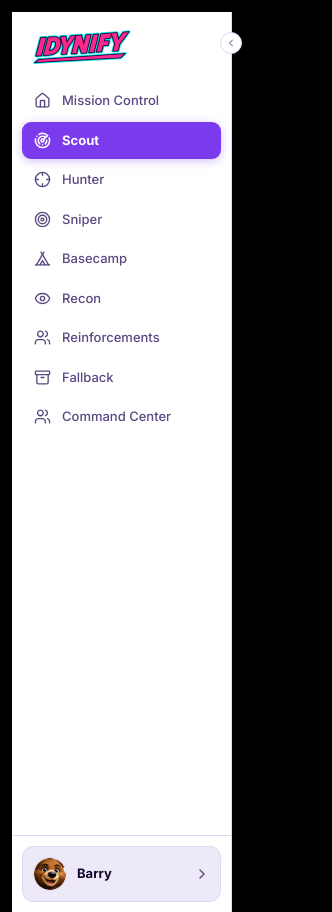
Test case: sidebar toggle — wide ↔ compact › shows short labels in compact but keeps the full accessible name
The image size is (332, 912).
Click the button named "collapse sidebar" at (231, 43), box [220,32,242,54]
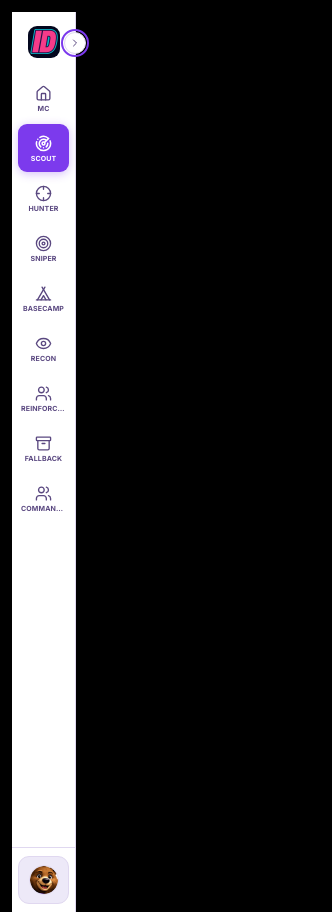
Expected: the button with aria-label "Mission Control" is shown, [18,74,69,122]
Now the text "MC" is shown, box [38,104,50,112]
